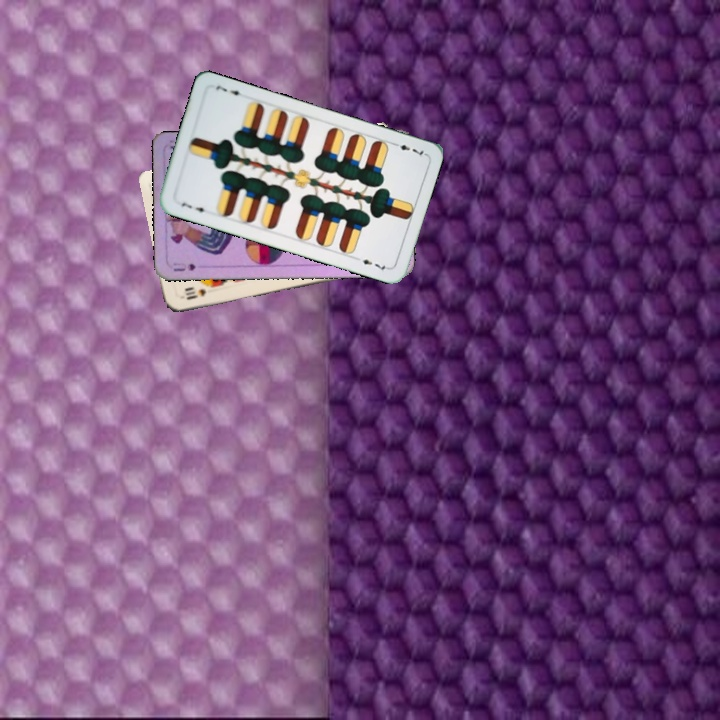E7: (388, 138, 427, 160), (177, 198, 211, 216)
S10: (181, 285, 208, 302)
SU: (170, 258, 198, 274)
